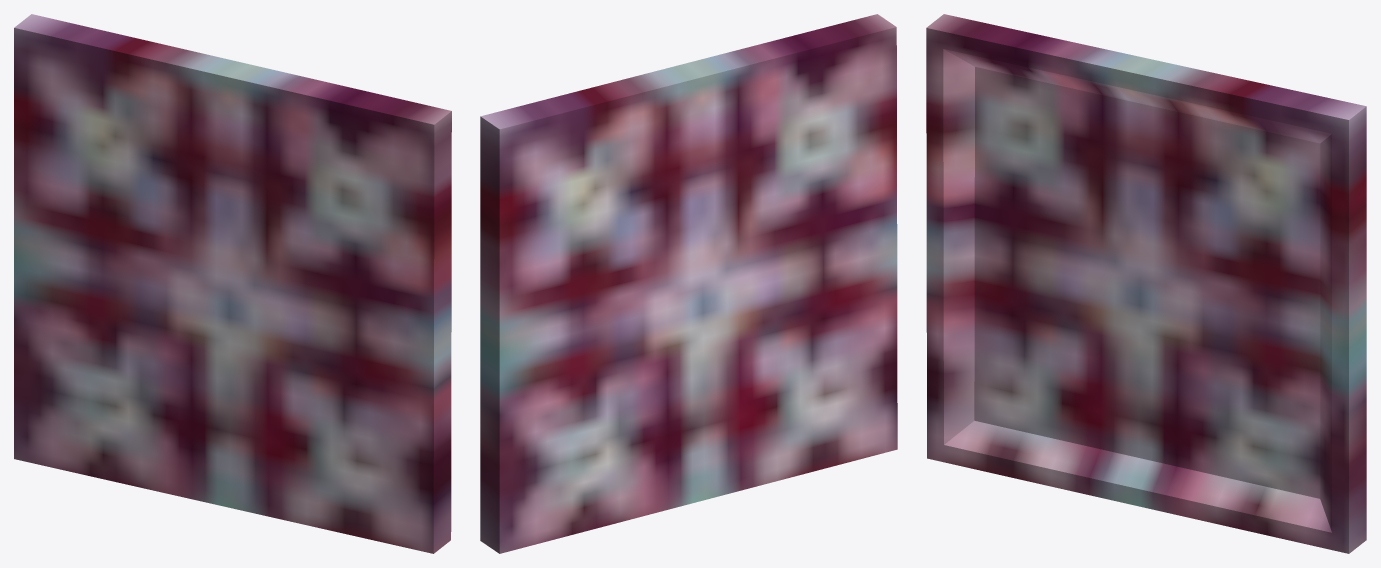
Rendered from 187 fix.fbx.
3 renders of one model, left to right at view 1: azimuth 90°, elevation 25°; view 2: azimuth 150°, elevation 25°; view 3: azimuth 270°, elevation 25°, orthographic. The views are drawn at different scales.
Visible parts, largest first — view 1: Cube_L4_1; view 2: Cube_L4_1; view 3: Cube_L4_1.
Part boxes in pixels (x1,y1,x2,y2): Cube_L4_1: (14, 14, 451, 553); Cube_L4_1: (480, 14, 897, 553); Cube_L4_1: (926, 14, 1366, 553).
Bounding box in the file's own units: 1.65 × 3.06 × 2.81.
Materials: 1 (1 with a texture image).
